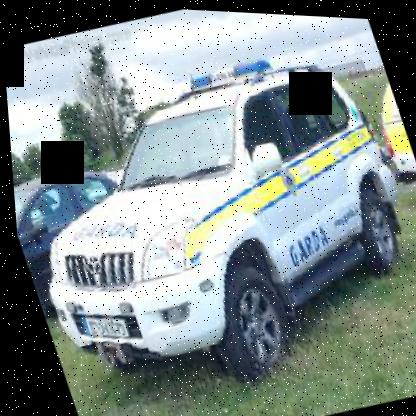emergency: (1, 24, 415, 406)
